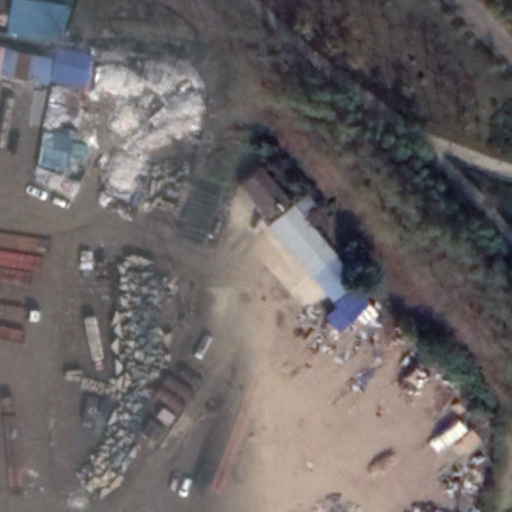msw: (80, 46, 201, 207)
